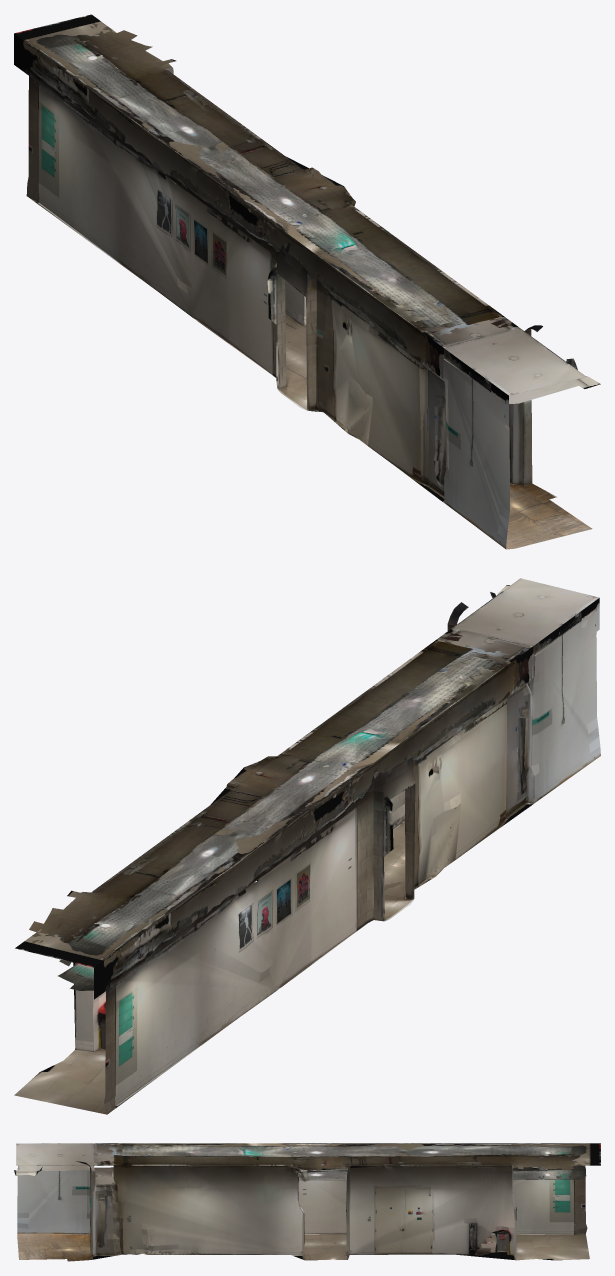
The model's file is Floor_1_sound_Cor_v3-IM.fbx.
The picture shows the model from 3 angles, top to bottom: view 1: azimuth 30°, elevation 25°; view 2: azimuth 150°, elevation 25°; view 3: azimuth 270°, elevation 25°; orthographic projection. The views are drawn at different scales.
Parts seen in each view (by area): view 1: Floor_1_sound_Cor_v3-IM; view 2: Floor_1_sound_Cor_v3-IM; view 3: Floor_1_sound_Cor_v3-IM.
Boxes of the visible parts, <box> form: Floor_1_sound_Cor_v3-IM: <box>14,14,600,549</box>; Floor_1_sound_Cor_v3-IM: <box>14,578,600,1114</box>; Floor_1_sound_Cor_v3-IM: <box>14,1143,600,1261</box>.
Bounding box in the file's own units: 242 × 348 × 1865.
1 material, 1 textured.
